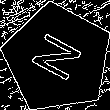N_SE: (26, 29, 89, 88)
